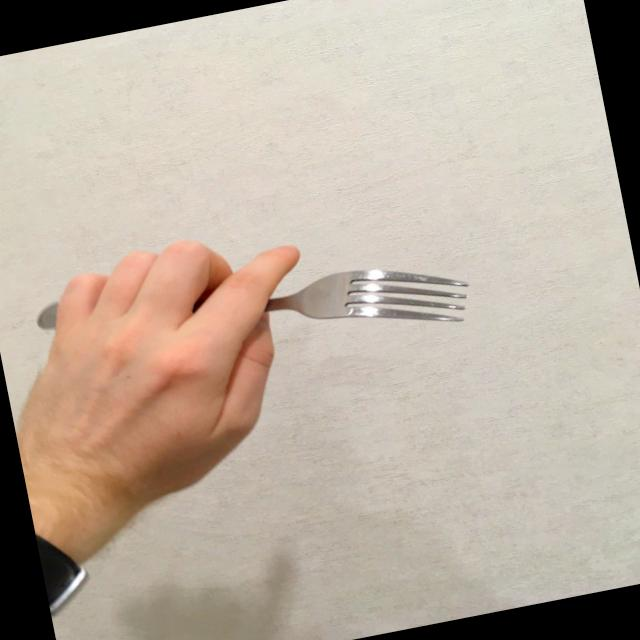fork: (34, 224, 475, 403)
